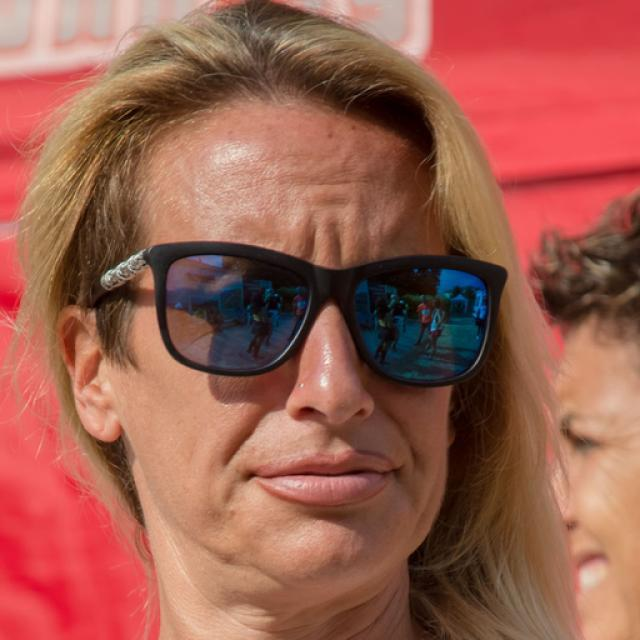anger: (124, 167, 452, 588)
